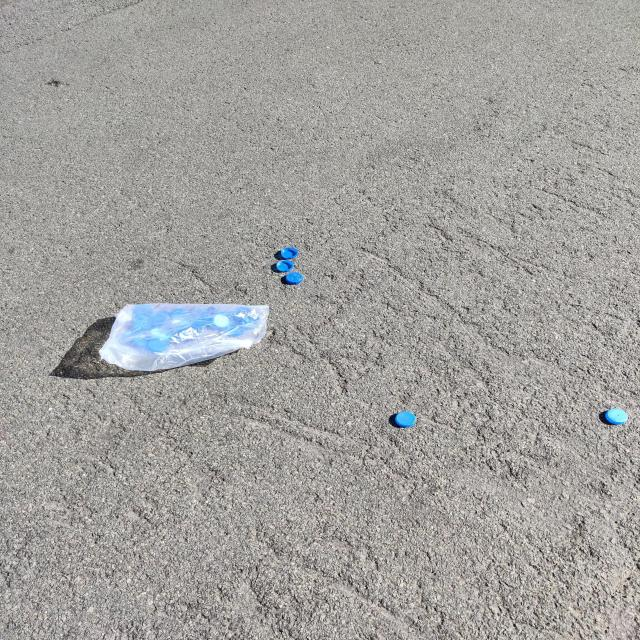litter: (269, 243, 308, 285), (389, 408, 421, 431), (599, 404, 633, 425)
